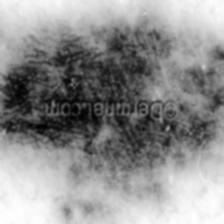Potentially Malignant Skin Tumors: (0, 36, 224, 218)
